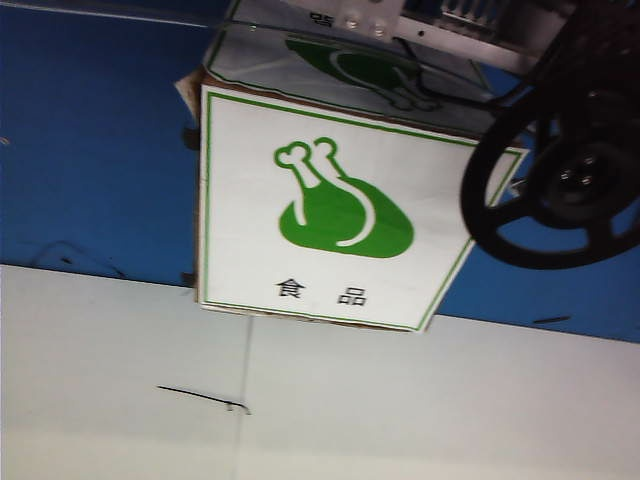Cube_food: (262, 125, 412, 319)
